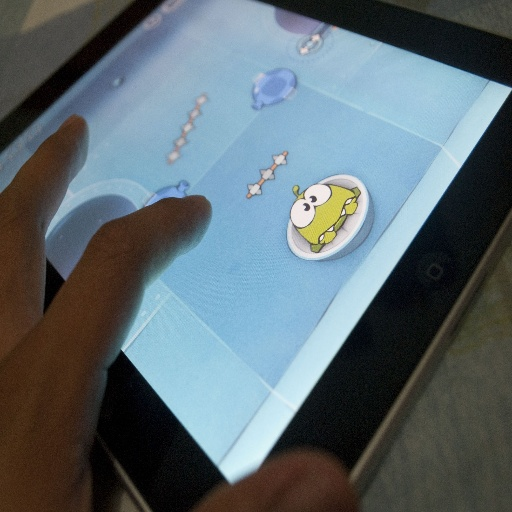hand: (0, 110, 356, 511)
